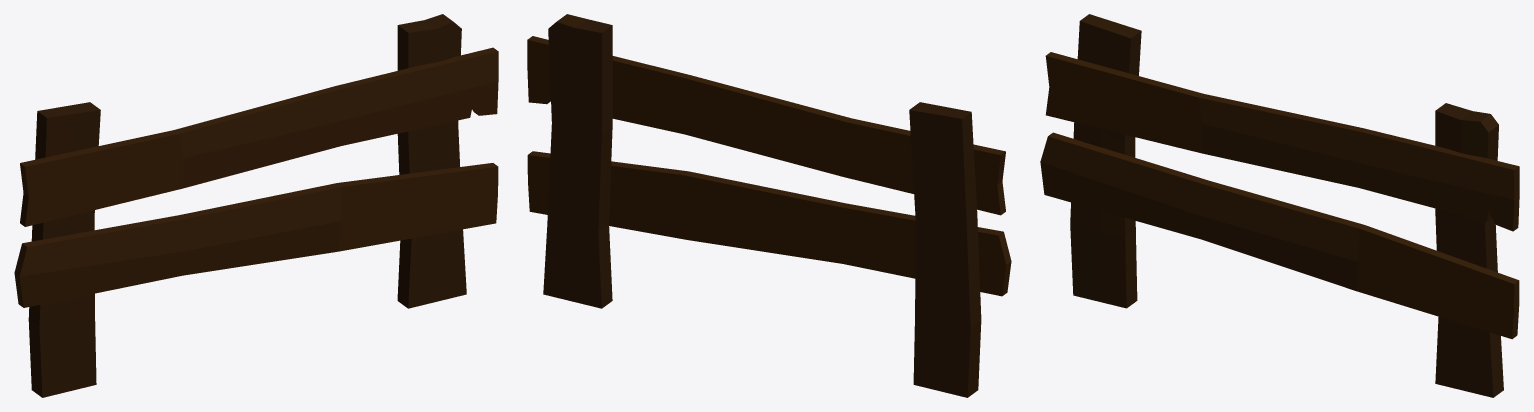
The model's file is fence.fbx.
3 renders of one model, left to right at view 1: azimuth 30°, elevation 25°; view 2: azimuth 150°, elevation 25°; view 3: azimuth 330°, elevation 25°, orthographic.
Visible parts, largest first — view 1: Cube.003; view 2: Cube.003; view 3: Cube.003.
Part boxes in pixels (x1,y1,x2,y2): Cube.003: [14, 14, 498, 397]; Cube.003: [527, 14, 1011, 397]; Cube.003: [1040, 14, 1519, 397].
Bounding box in the file's own units: 3.15 × 1.75 × 0.2093.
